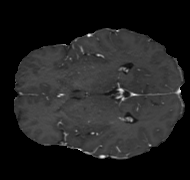Edema: (53, 96, 122, 136)
EnhancingTumors: (64, 111, 105, 124)
